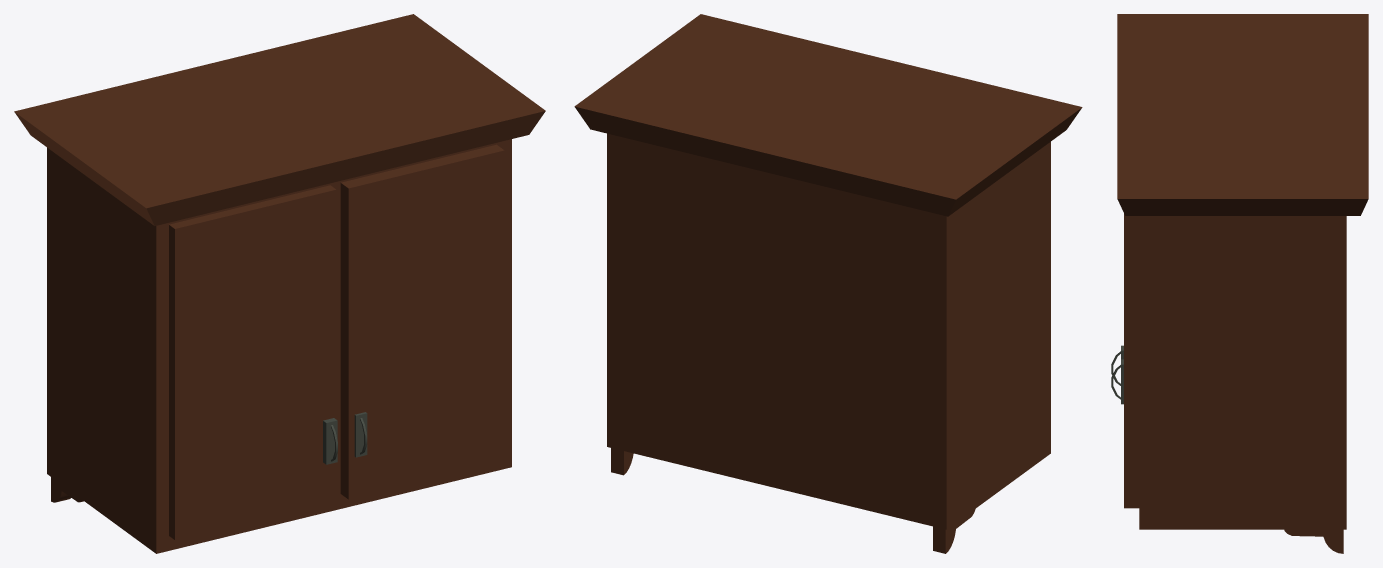
File: another cabinet in the basement.fbx
The picture shows the model from 3 angles, left to right: view 1: azimuth 30°, elevation 25°; view 2: azimuth 150°, elevation 25°; view 3: azimuth 270°, elevation 25°; orthographic projection. The views are drawn at different scales.
Visible parts, largest first — view 1: pCube85; view 2: pCube85; view 3: pCube85.
Part boxes in pixels (left/top/right/bottom): pCube85: left=14, top=14, right=545, bottom=553; pCube85: left=574, top=14, right=1082, bottom=553; pCube85: left=1111, top=14, right=1368, bottom=553.
Bounding box in the file's own units: 6.17 × 5.7 × 3.62.
